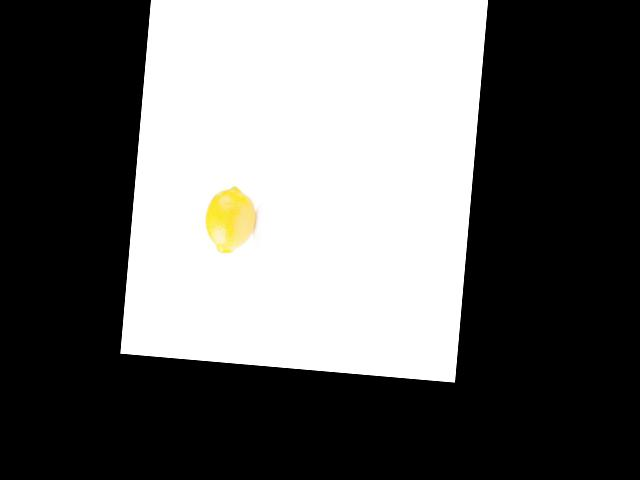lemon: (201, 182, 262, 259)
